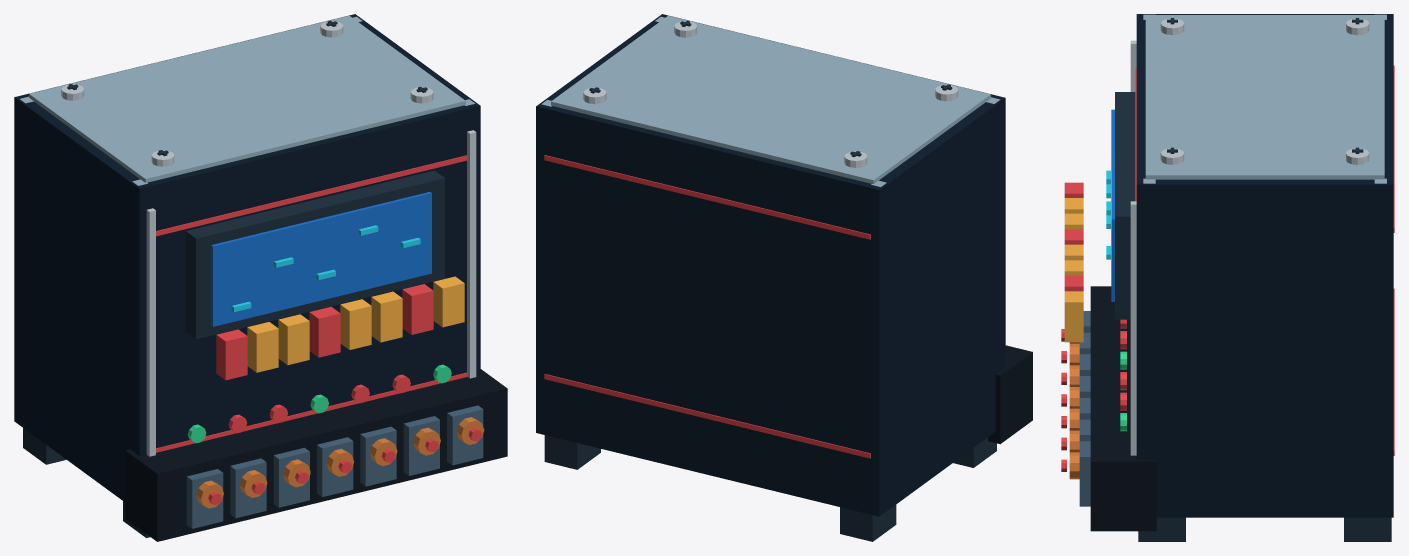
The model's file is 40_L75_BeamlineSafetyInterlockRelay.fbx.
The picture shows the model from 3 angles, left to right: view 1: azimuth 30°, elevation 25°; view 2: azimuth 150°, elevation 25°; view 3: azimuth 270°, elevation 25°; orthographic projection. The views are drawn at different scales.
Visible parts, largest first — view 1: BeamlineSafetyInterlockRelay; view 2: BeamlineSafetyInterlockRelay; view 3: BeamlineSafetyInterlockRelay.
Part boxes in pixels (x1,y1,x2,y2): BeamlineSafetyInterlockRelay: (14,14,507,541); BeamlineSafetyInterlockRelay: (536,14,1032,541); BeamlineSafetyInterlockRelay: (1061,14,1394,541).
Size of the model in its own units: 113 by 113 by 90.8.
